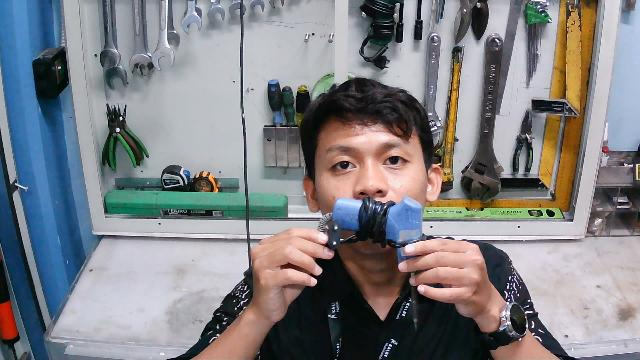solder_electrical: (311, 195, 424, 331)
